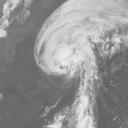cyclone: (33, 18, 87, 76)
